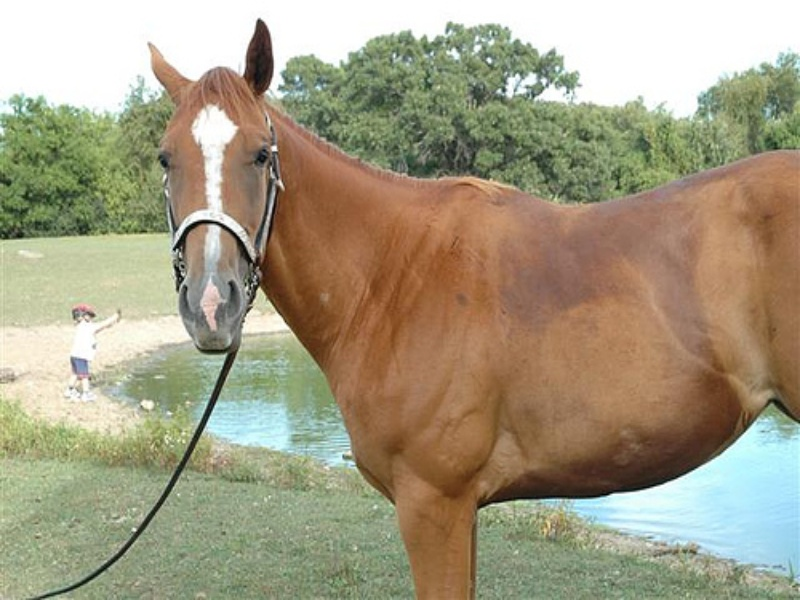person: (64, 306, 121, 400)
